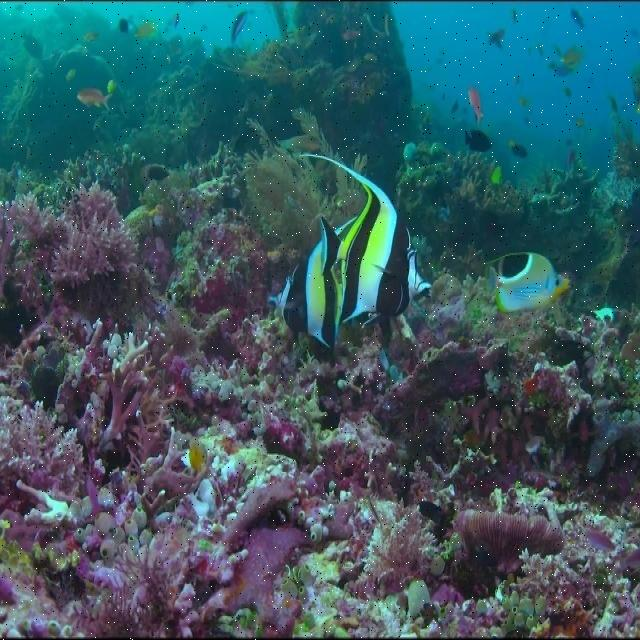aquatic plants: (242, 110, 369, 259)
fish: (298, 153, 433, 327), (266, 240, 343, 349), (484, 254, 572, 312)
reefs: (0, 184, 639, 638)
